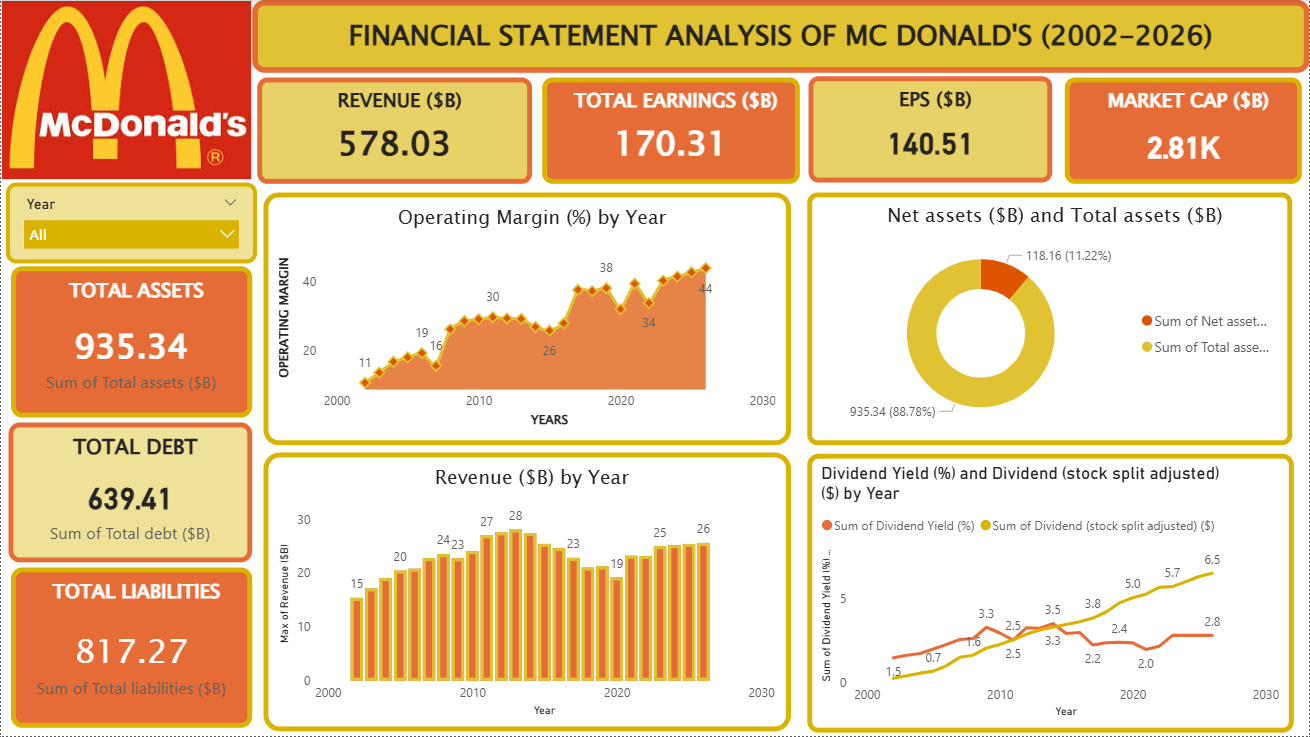

This screenshot's page, from the dashboard's own definition file:
{"tool":"powerbi","page":{"name":"Page 1","canvas":[1280,720],"ordinal":0},"visuals":[{"type":"image","box":[0,0,245.7,175.7],"z":0},{"type":"card","title":"REVENUE ($B)","fields":{"Values":["Sum(McDonalds_Financial_Statements.Revenue ($B))"]},"box":[251.1,75.5,269,104.3],"z":1000},{"type":"textbox","box":[245.7,0,1034.3,71.4],"z":2000},{"type":"card","title":"TOTAL EARNINGS ($B)","fields":{"Values":["Sum(McDonalds_Financial_Statements.Earnings ($B))"]},"box":[529.5,75.8,251.9,103.9],"z":3000},{"type":"card","title":"EPS ($B)","fields":{"Values":["Sum(McDonalds_Financial_Statements.EPS ($))"]},"box":[789.9,74.6,238.5,103.9],"z":4000},{"type":"card","title":"MARKET CAP ($B)","fields":{"Values":["Sum(McDonalds_Financial_Statements.Market cap ($B))"]},"box":[1040.1,75.5,231.9,104.3],"z":5000},{"type":"slicer","fields":{"Values":["McDonalds_Financial_Statements.Year"]},"box":[5.5,178.4,245.6,79.6],"z":6000},{"type":"card","title":"TOTAL ASSETS","fields":{"Values":["Sum(McDonalds_Financial_Statements.Total assets ($B))"]},"box":[9.6,260.7,236,148.2],"z":7000},{"type":"card","title":"TOTAL DEBT","fields":{"Values":["Sum(McDonalds_Financial_Statements.Total debt ($B))"]},"box":[7.7,413.1,238.5,136.9],"z":8000},{"type":"card","title":"TOTAL LIABILITIES","fields":{"Values":["Sum(McDonalds_Financial_Statements.Total liabilities ($B))"]},"box":[9.2,555.4,236.2,156.9],"z":9000},{"type":"areaChart","title":"Operating Margin (%) by Year","fields":{"Category":["McDonalds_Financial_Statements.Year"],"Y":["Sum(McDonalds_Financial_Statements.Operating Margin (%))"]},"box":[256.6,188,516,247],"z":10000},{"type":"donutChart","title":" Net assets ($B) and Total assets ($B)","fields":{"Y":["Sum(McDonalds_Financial_Statements.Net assets ($B))","Sum(McDonalds_Financial_Statements.Total assets ($B))"]},"box":[789,188,474.8,247],"z":11000},{"type":"clusteredColumnChart","title":"Revenue ($B) by Year","fields":{"Y":["Max(McDonalds_Financial_Statements.Revenue ($B))"],"Category":["McDonalds_Financial_Statements.Year"]},"box":[257.1,442.9,515.7,272.9],"z":12000},{"type":"lineChart","title":"Dividend Yield (%) and Dividend (stock split adjusted) ($) by Year","fields":{"Category":["McDonalds_Financial_Statements.Year"],"Y":["Sum(McDonalds_Financial_Statements.Dividend Yield (%))","Sum(McDonalds_Financial_Statements.Dividend (stock split adjusted) ($))"]},"box":[788.6,444.3,475.7,272.9],"z":13000}]}

Visuals, with their boxes in screenshot pixels (x1, y1, x2, y2), scaled from the page's 1280x720 canvas onto the 1310x737 screenshot:
image: (left=0, top=0, right=251, bottom=180)
"REVENUE ($B)" card: (left=257, top=77, right=532, bottom=184)
textbox: (left=251, top=0, right=1309, bottom=73)
"TOTAL EARNINGS ($B)" card: (left=542, top=78, right=800, bottom=184)
"EPS ($B)" card: (left=808, top=76, right=1053, bottom=183)
"MARKET CAP ($B)" card: (left=1064, top=77, right=1302, bottom=184)
slicer - McDonalds_Financial_Statements.Year: (left=6, top=183, right=257, bottom=264)
"TOTAL ASSETS" card: (left=10, top=267, right=251, bottom=419)
"TOTAL DEBT" card: (left=8, top=423, right=252, bottom=563)
"TOTAL LIABILITIES" card: (left=9, top=569, right=251, bottom=729)
"Operating Margin (%) by Year" areaChart: (left=263, top=192, right=791, bottom=445)
" Net assets ($B) and Total assets ($B)" donutChart: (left=807, top=192, right=1293, bottom=445)
"Revenue ($B) by Year" clusteredColumnChart: (left=263, top=453, right=791, bottom=733)
"Dividend Yield (%) and Dividend (stock split adjusted) ($) by Year" lineChart: (left=807, top=455, right=1294, bottom=734)
